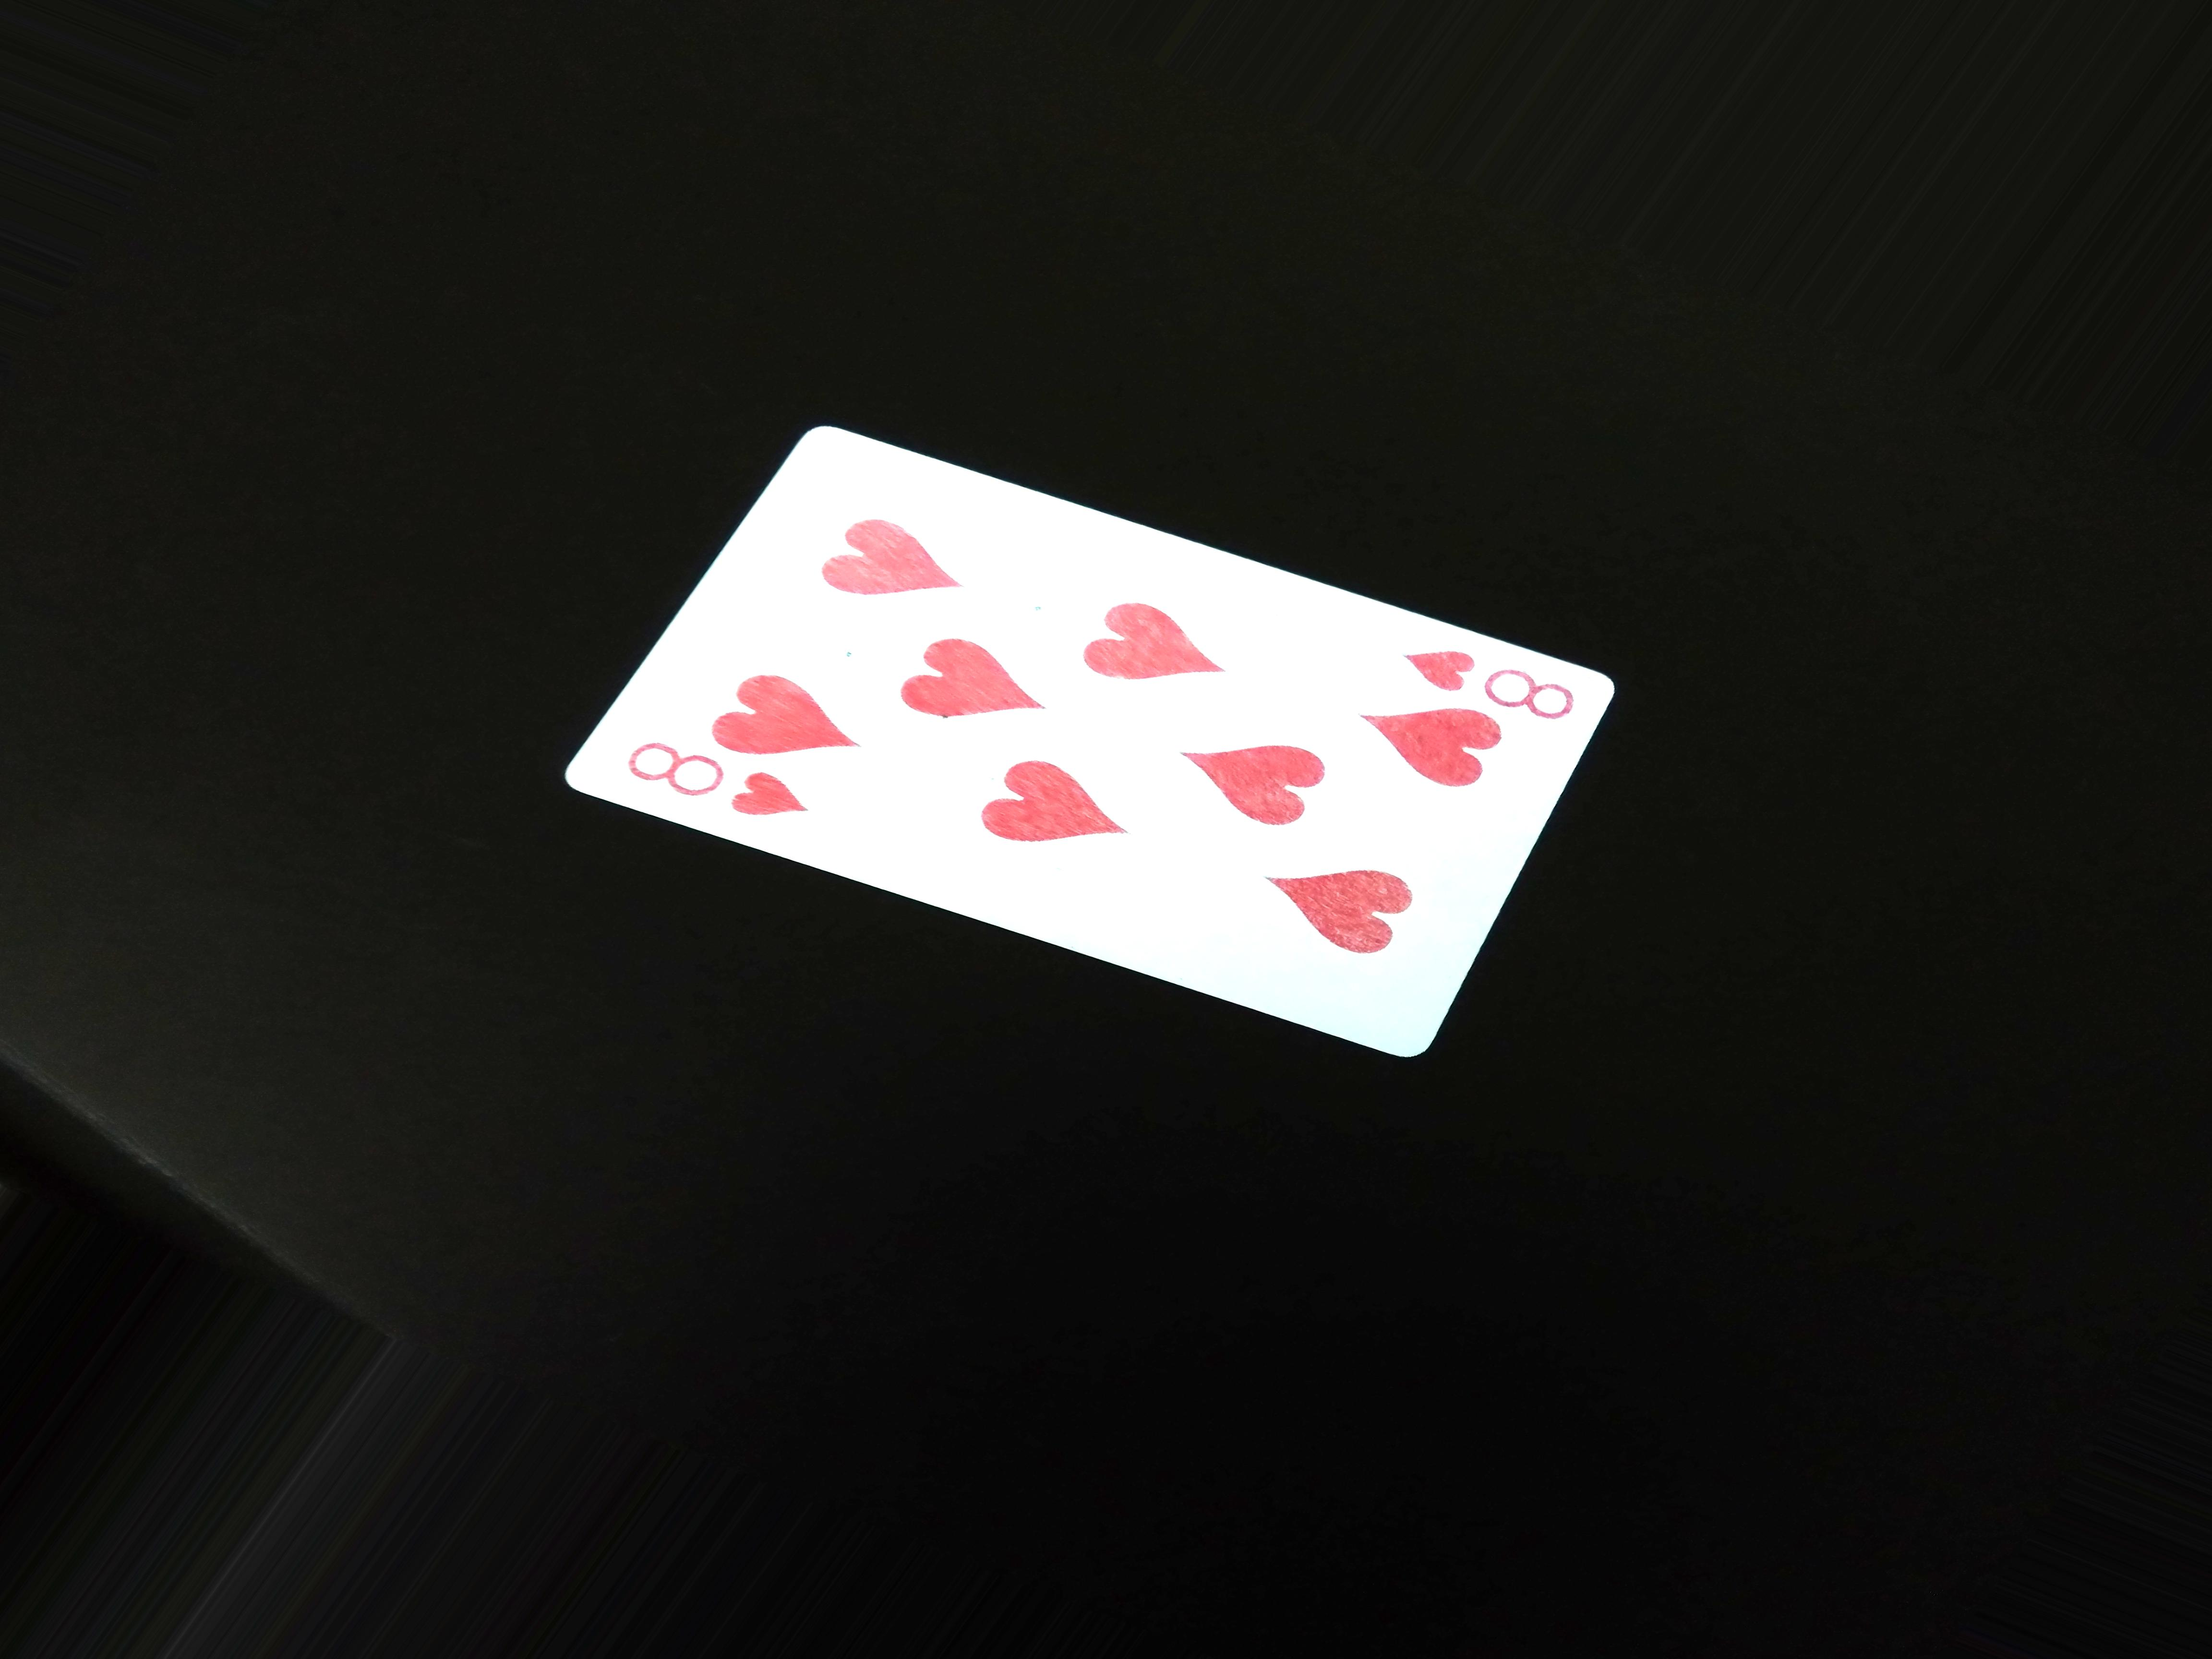8H: (1388, 638, 1590, 727)
